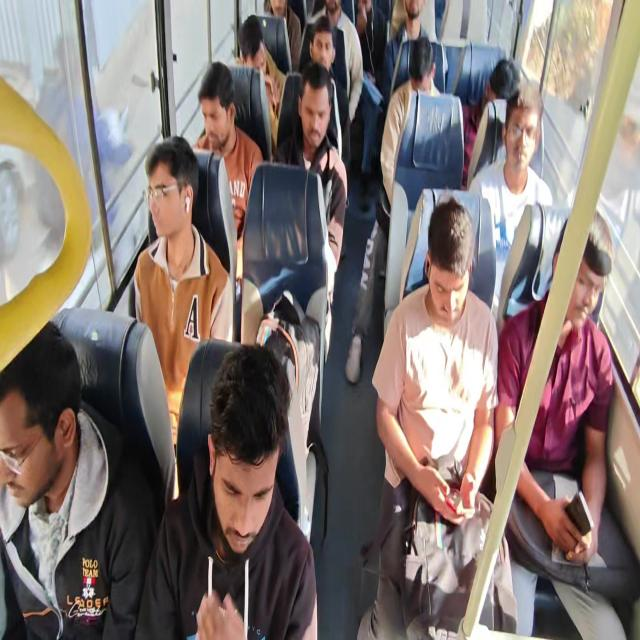person: (197, 413, 323, 640), (17, 281, 73, 567), (525, 210, 630, 358), (404, 173, 486, 351), (144, 125, 213, 268), (500, 84, 556, 188), (192, 55, 244, 166), (293, 65, 339, 174), (223, 8, 279, 88), (403, 32, 453, 106), (486, 23, 524, 108), (306, 19, 337, 73), (319, 0, 355, 37), (246, 0, 292, 27), (358, 0, 380, 43), (402, 0, 432, 18)
